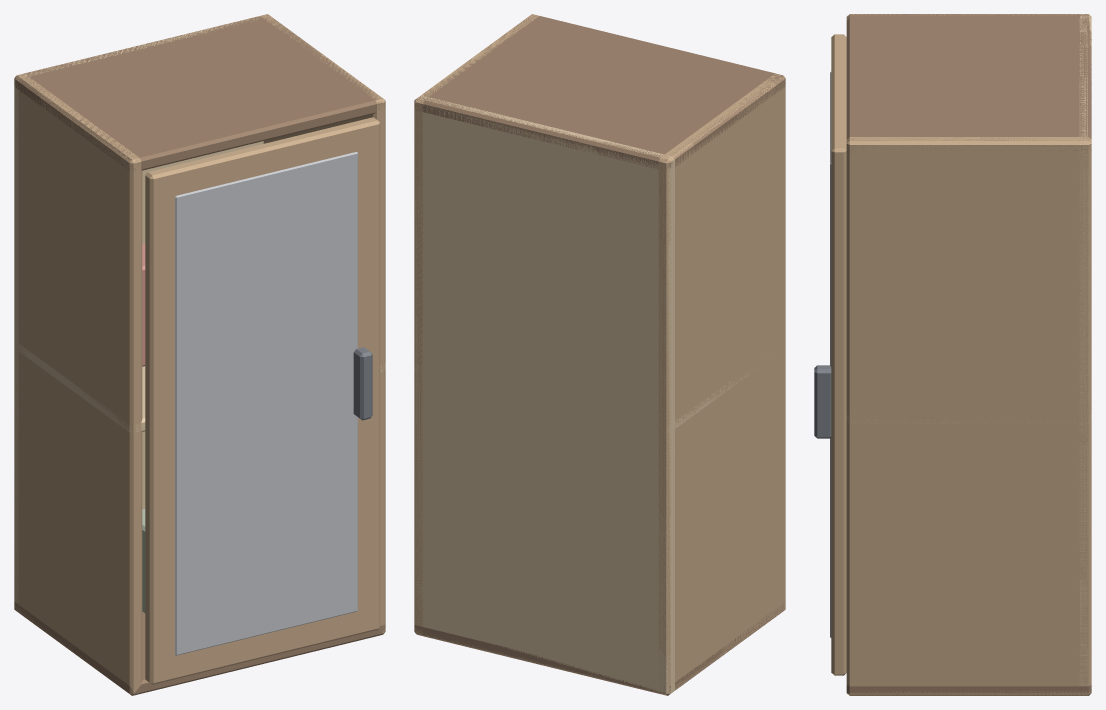
Rendered from GlassDoor_1x2.glb.
3 renders of one model, left to right at view 1: azimuth 30°, elevation 25°; view 2: azimuth 150°, elevation 25°; view 3: azimuth 270°, elevation 25°, orthographic. The views are drawn at different scales.
Visible parts, largest first — view 1: WallSysGlass12_Door, WallSysGlass12_Body; view 2: WallSysGlass12_Body; view 3: WallSysGlass12_Body, WallSysGlass12_Door.
Boxes of the visible parts, <box> form: WallSysGlass12_Door: <box>145,117,380,684</box>; WallSysGlass12_Body: <box>14,14,385,695</box>; WallSysGlass12_Body: <box>414,14,785,695</box>; WallSysGlass12_Body: <box>846,14,1091,695</box>; WallSysGlass12_Door: <box>814,34,846,675</box>.
Size of the model in its own units: 0.4 by 0.8 by 0.3625.
